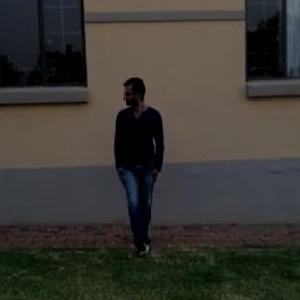follow: (112, 75, 165, 251)
